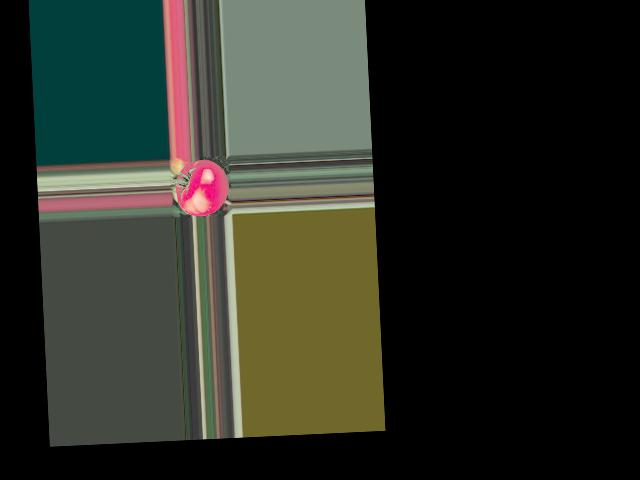tomato: (175, 159, 230, 217)
